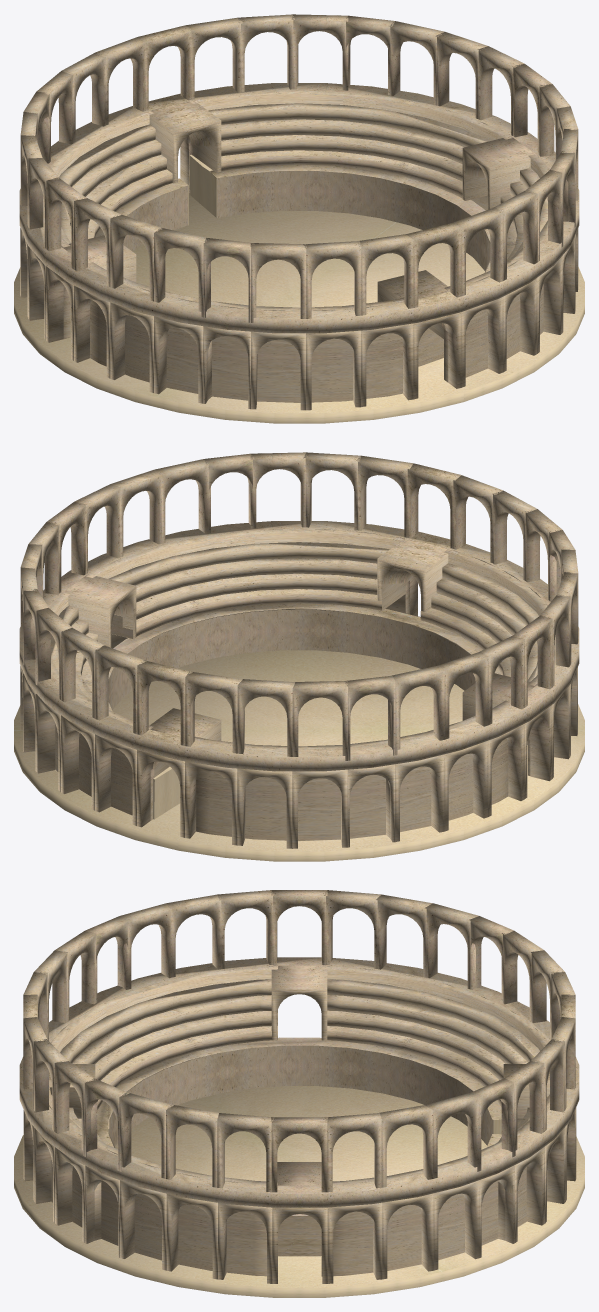
The model's file is coli_text_ok.fbx.
The picture shows the model from 3 angles, top to bottom: view 1: azimuth 30°, elevation 25°; view 2: azimuth 150°, elevation 25°; view 3: azimuth 270°, elevation 25°; orthographic projection.
Parts seen in each view (by area): view 1: columnas_sup, escaleras, suelo_coli, pared_fuera, muro_bajo, pasadizos, box_cerrar002; view 2: columnas_sup, escaleras, suelo_coli, pared_fuera, muro_bajo, pasadizos, box_cerrar002; view 3: columnas_sup, escaleras, suelo_coli, pared_fuera, muro_bajo, pasadizos.
Boxes of the visible parts, x1,y1,x2,y2 form: columnas_sup: (19,14,579,333); escaleras: (20,90,578,410); suelo_coli: (14,193,584,423); pared_fuera: (63,142,543,402); muro_bajo: (123,171,490,272); pasadizos: (61,101,537,338); box_cerrar002: (189,154,216,217); columnas_sup: (19,452,579,771); escaleras: (20,529,577,848); suelo_coli: (14,650,584,861); pared_fuera: (55,529,547,840); muro_bajo: (108,609,475,709); pasadizos: (61,538,537,777); box_cerrar002: (153,766,180,819); columnas_sup: (19,890,579,1207); escaleras: (23,966,576,1283); suelo_coli: (14,1086,584,1297); pared_fuera: (49,968,547,1276); muro_bajo: (109,1045,493,1147); pasadizos: (49,965,549,1185).
Bounding box in the file's own units: 106 × 34.99 × 106.
